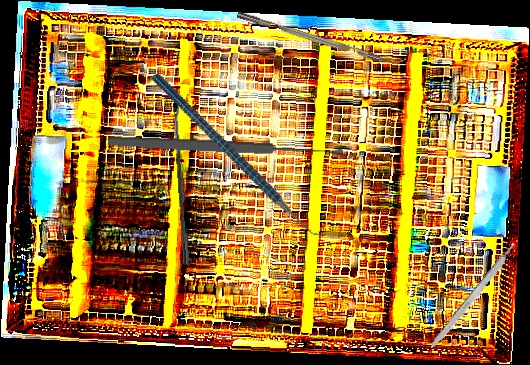Chopper: (151, 35, 332, 276), (236, 2, 407, 72)
Scalpel Handle: (426, 241, 520, 354)
Surgical Spoon: (107, 133, 344, 161), (172, 105, 191, 266)
